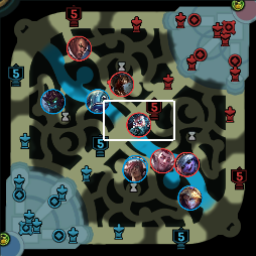ezreal: (176, 186, 204, 212)
fiddlesticks: (107, 71, 134, 97)
fizz: (86, 89, 110, 115)
lucian: (66, 36, 93, 62)
maokai: (39, 89, 67, 114)
rakan: (148, 148, 176, 174)
sett: (121, 159, 148, 183)
tristana: (174, 152, 200, 177)
zilean: (126, 111, 151, 137)
